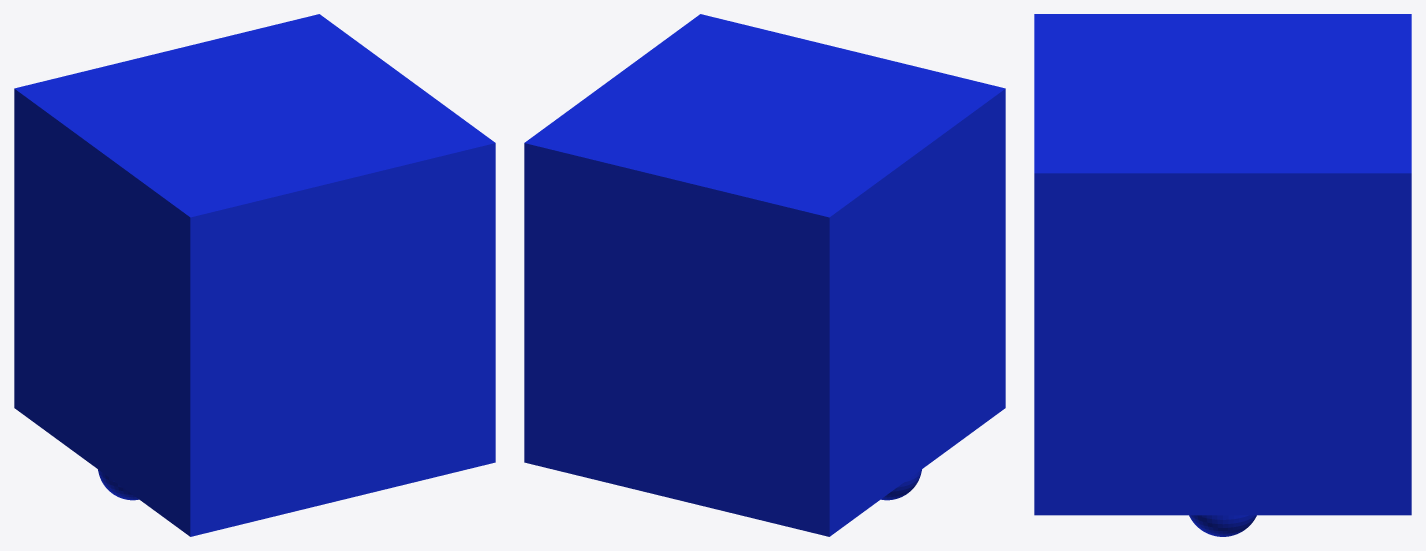
File: base_link_robot_2.dae
3 renders of one model, left to right at view 1: azimuth 30°, elevation 25°; view 2: azimuth 150°, elevation 25°; view 3: azimuth 270°, elevation 25°, orthographic. The views are drawn at different scales.
Visible parts, largest first — view 1: base_link v1; view 2: base_link v1; view 3: base_link v1.
Part boxes in pixels (left/top/right/bottom): base_link v1: left=14, top=14, right=495, bottom=536; base_link v1: left=524, top=14, right=1005, bottom=536; base_link v1: left=1034, top=14, right=1411, bottom=536.
Bounding box in the file's own units: 0.1 × 0.1 × 0.11.
